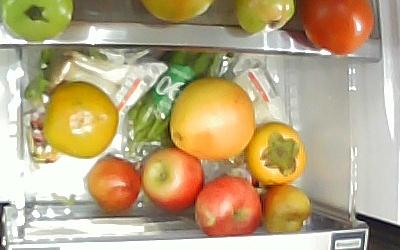apple: (195, 174, 264, 237), (141, 149, 205, 213)
grapefruit: (168, 78, 256, 160)
persimmon: (40, 82, 119, 159), (248, 122, 309, 189)
prune: (85, 154, 141, 213), (261, 185, 313, 234)
